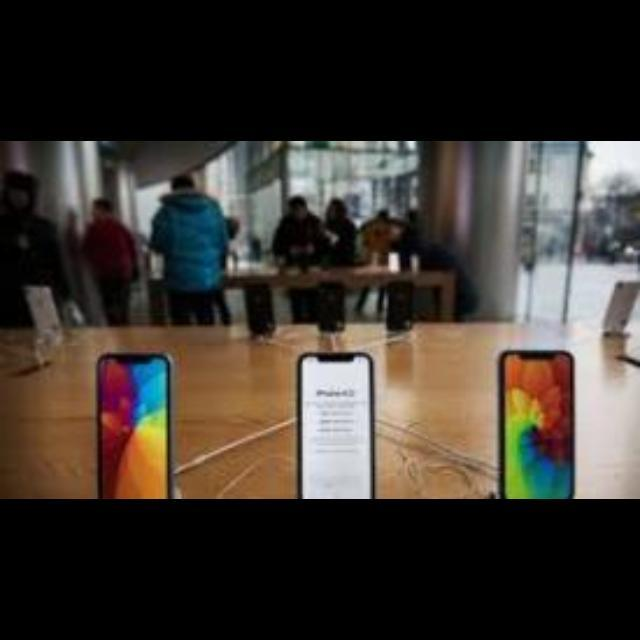Phone: (496, 346, 574, 499), (99, 348, 175, 498), (296, 348, 370, 498), (24, 284, 61, 338), (241, 277, 275, 335), (312, 282, 344, 330), (386, 278, 414, 330)
